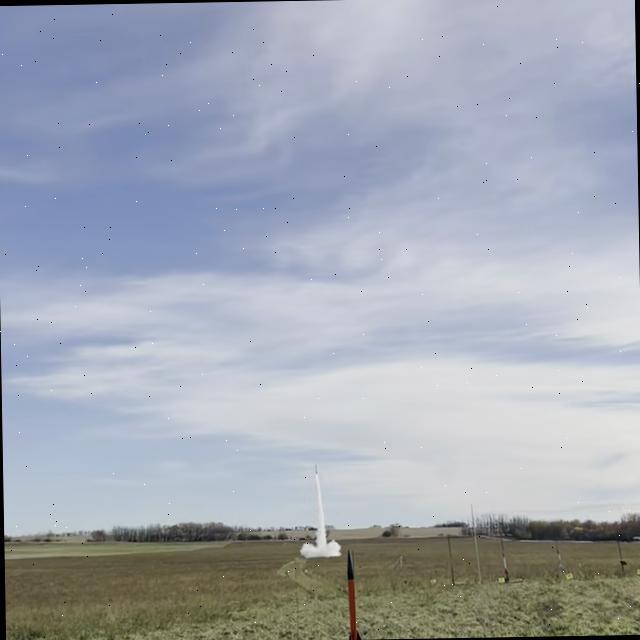smoke_trail_with_rocket: (300, 465, 340, 558)
